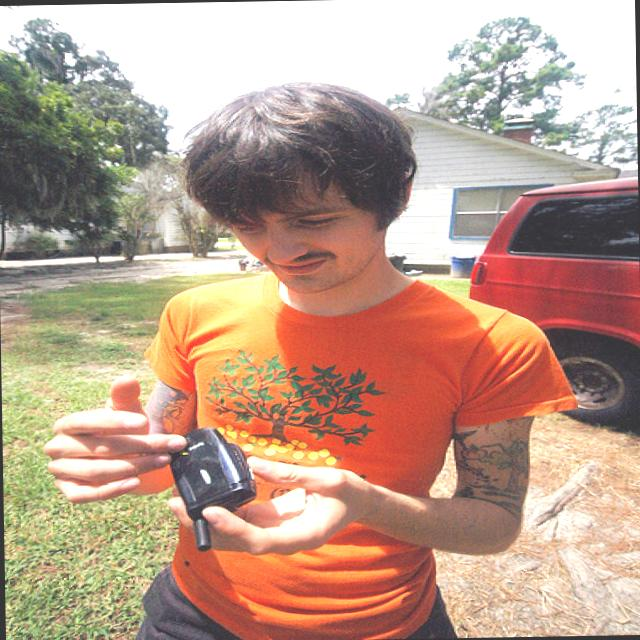Vehicle: (463, 172, 640, 426)
